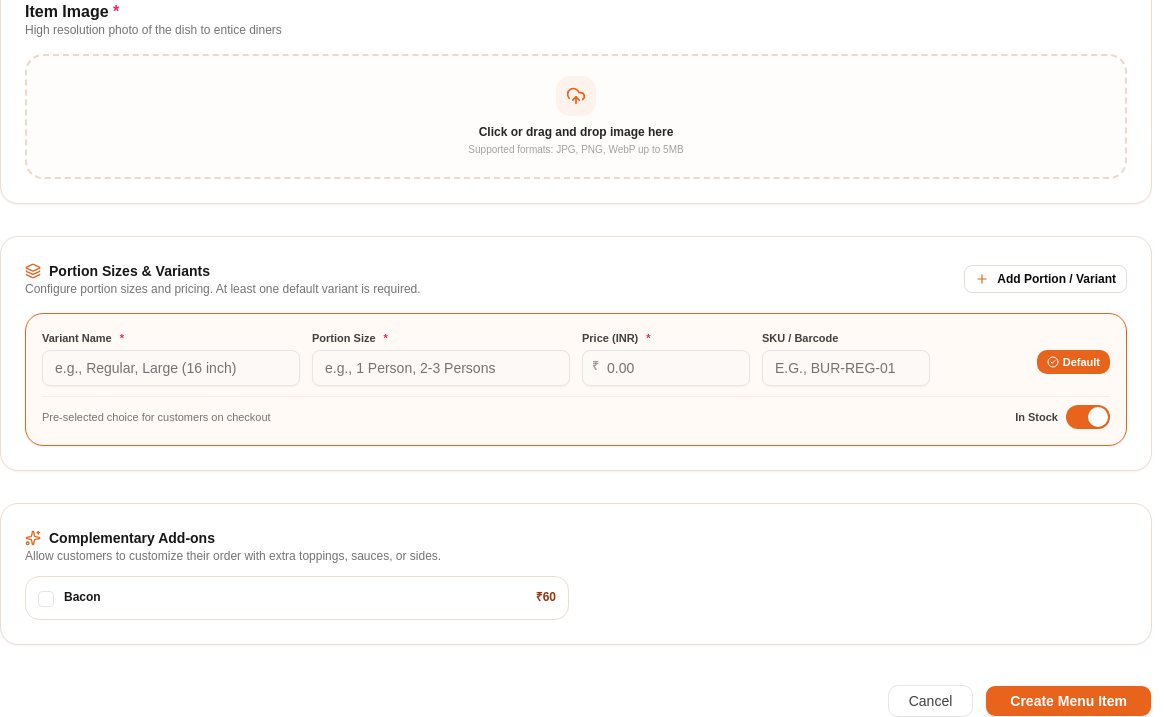
CreateMenuItemForm › shows validation error if required fields are missing on submit
(page scrolled)
Click the button "Create Menu Item".
click(1069, 701)  # box [985,685,1152,716]
(page scrolled)
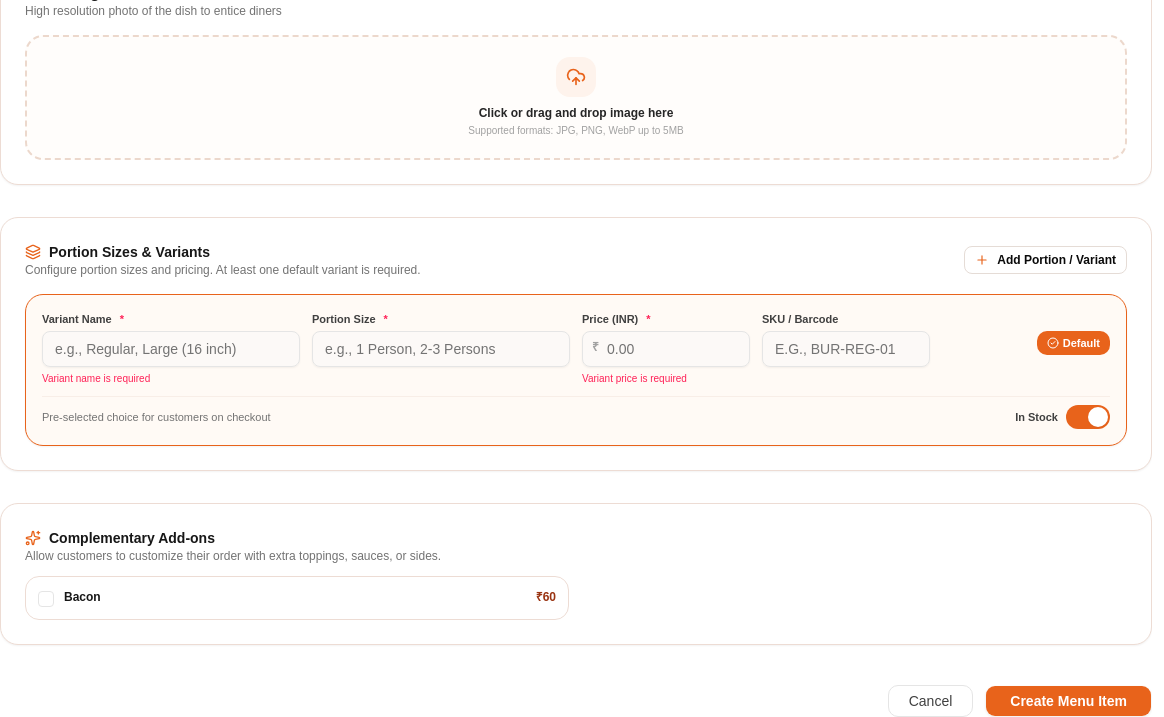
Result: the text "Variant price is required" is shown at [582,373,687,384]
